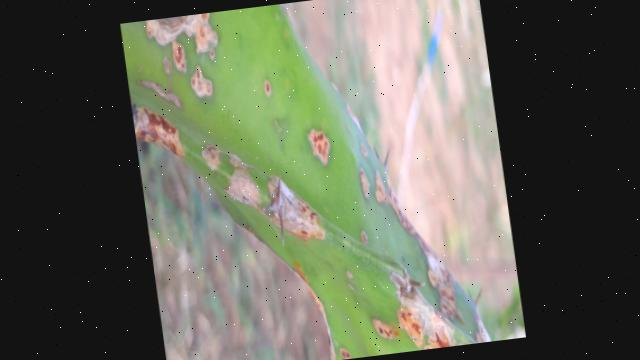stemcanker: (266, 173, 328, 244), (134, 108, 185, 159), (425, 271, 460, 321), (394, 297, 422, 342), (371, 310, 403, 345), (308, 125, 334, 167), (187, 65, 217, 101), (352, 165, 374, 207)
